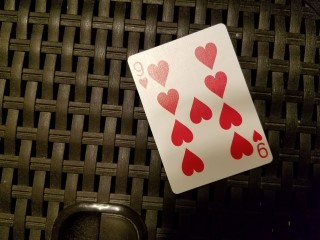NineOfHearts: (126, 23, 273, 194)
